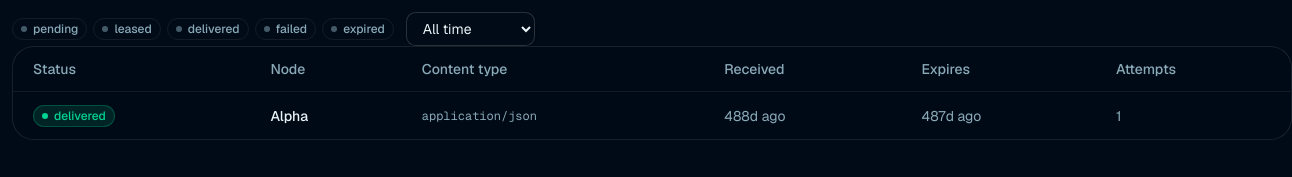
Scenario: EventsClient › shows fetch error when the list API returns not ok
Click the button "failed" at (285,29), box [254,18,316,40]
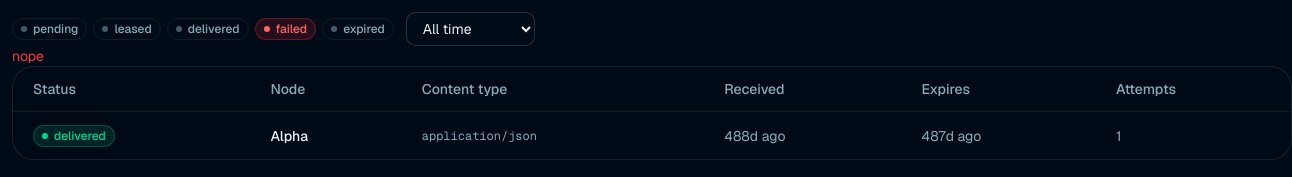
Now the text "nope" is shown, box [12,47,44,65]
